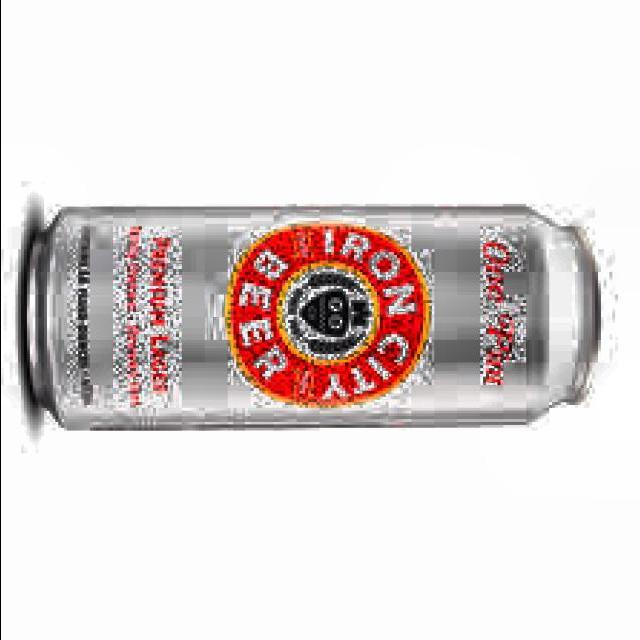litter: (11, 198, 608, 440)
